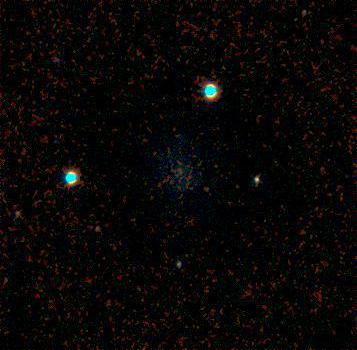star: (192, 170, 222, 200)
